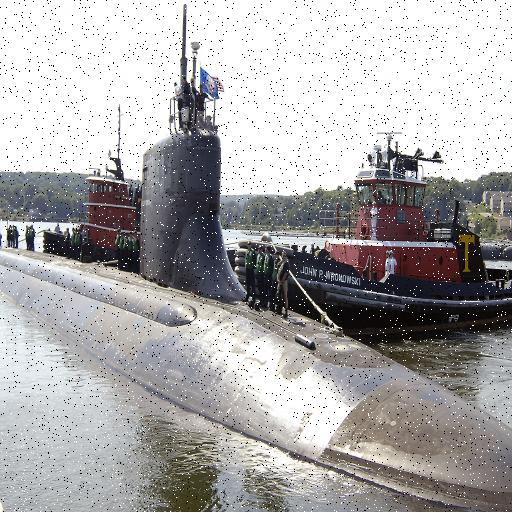submarine: (1, 1, 512, 512)
